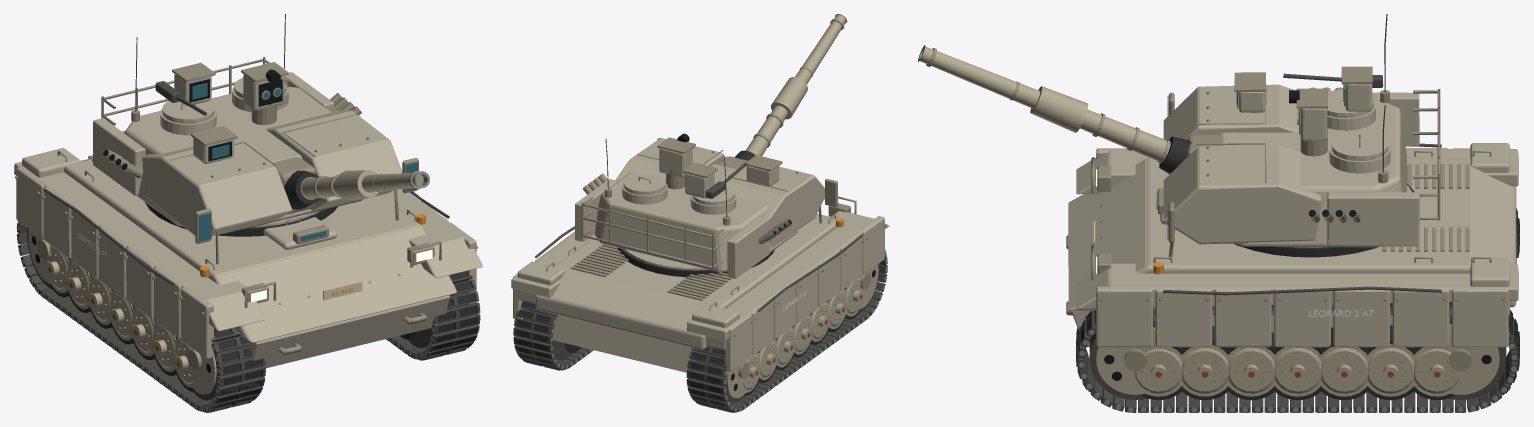
The model's file is leopard.glb.
3 renders of one model, left to right at view 1: azimuth 30°, elevation 25°; view 2: azimuth 150°, elevation 25°; view 3: azimuth 270°, elevation 25°, orthographic. The views are drawn at different scales.
Visible parts, largest first — view 1: body, turret; view 2: body, turret; view 3: body, turret.
Part boxes in pixels (x1,y1,x2,y2): body: (14,148,482,412); turret: (93,14,429,277); body: (511,196,889,412); turret: (575,14,847,278); body: (1066,143,1519,412); turret: (918,14,1440,274).
Size of the model in its own units: 3.86 by 3.69 by 6.7.
